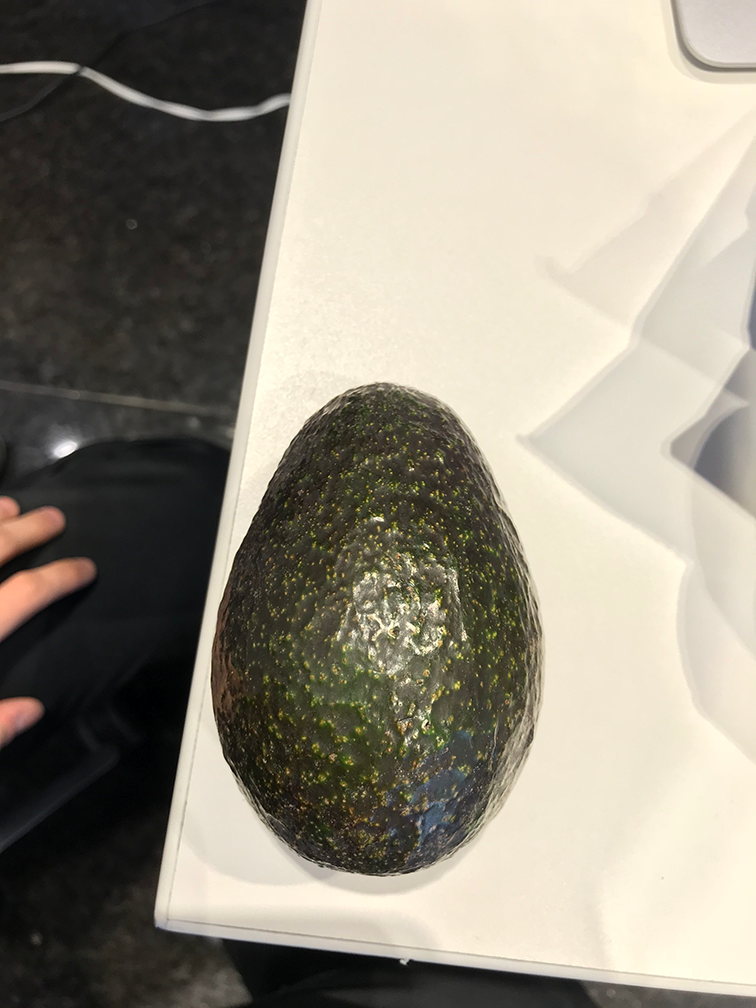avocado: (203, 370, 553, 886)
